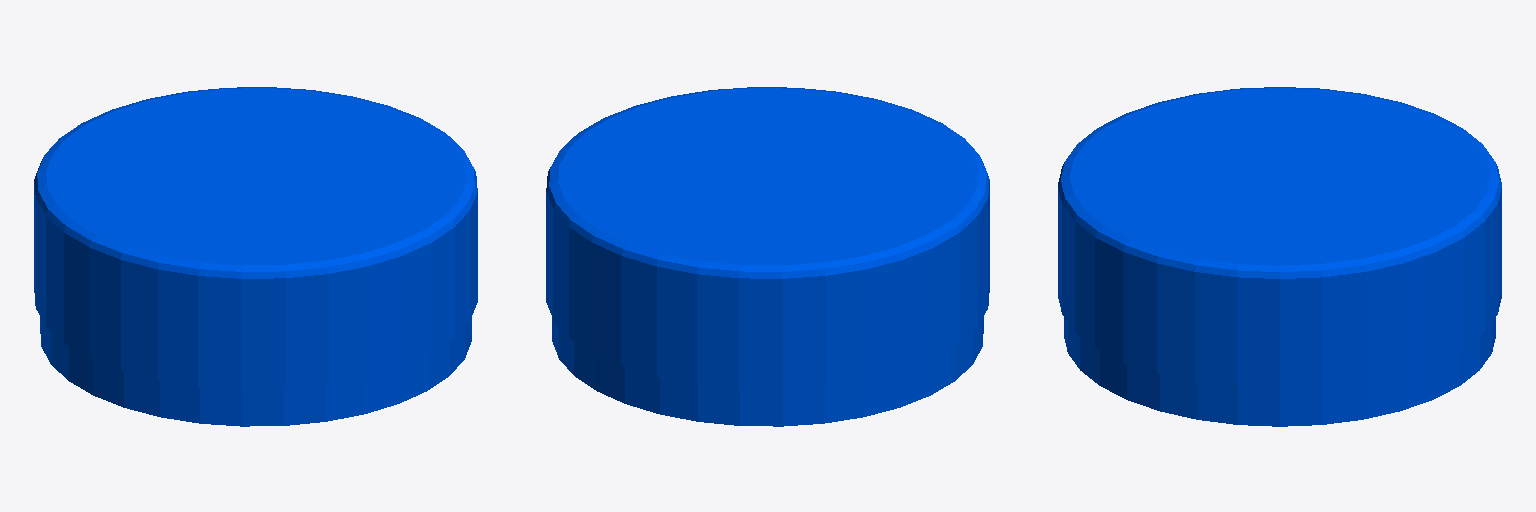
File: mdl_tapa_noname_04.obj
3 views of the same model, side by side, from view 1: azimuth 30°, elevation 25°; view 2: azimuth 150°, elevation 25°; view 3: azimuth 270°, elevation 25° (orthographic).
Visible parts, largest first — view 1: mdl_tapa_nocarbonatada_33mm011; view 2: mdl_tapa_nocarbonatada_33mm011; view 3: mdl_tapa_nocarbonatada_33mm011.
Part boxes in pixels (x1,y1,x2,y2): mdl_tapa_nocarbonatada_33mm011: (34,87,477,426); mdl_tapa_nocarbonatada_33mm011: (546,87,989,426); mdl_tapa_nocarbonatada_33mm011: (1058,87,1501,426).
Bounding box in the file's own units: 3.8 × 1.5 × 3.8.